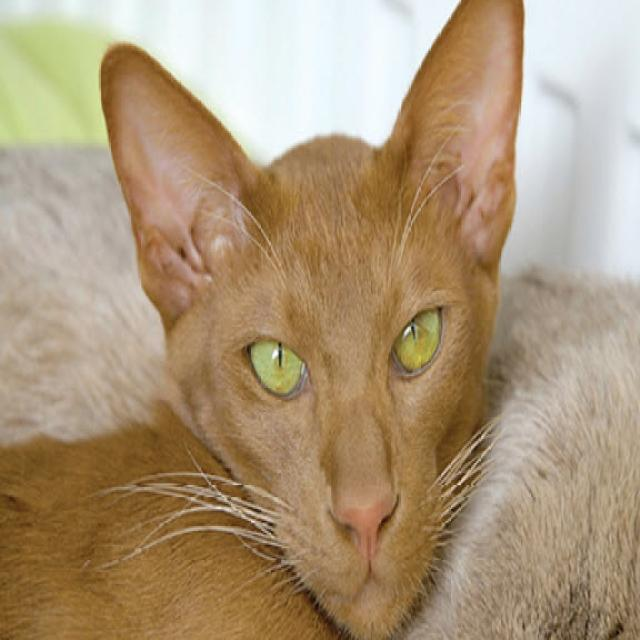Oriental: (0, 0, 529, 640)
